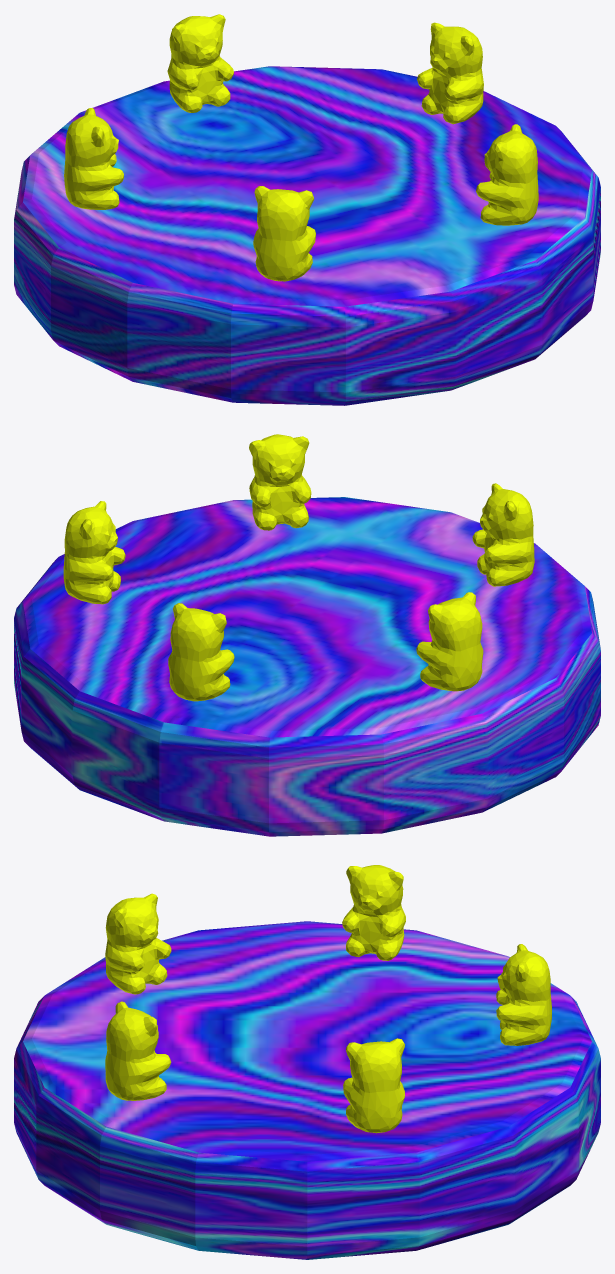
The model's file is jelly1.fbx.
The picture shows the model from 3 angles, top to bottom: view 1: azimuth 30°, elevation 25°; view 2: azimuth 150°, elevation 25°; view 3: azimuth 270°, elevation 25°; orthographic projection.
Parts seen in each view (by area): view 1: Cylinder, gummy_bear.150_Sphere.002, gummy_bear.150_Sphere.001, gummy_bear.150_Sphere.004, gummy_bear.150_Sphere.003, gummy_bear.150_Sphere.152; view 2: Cylinder, gummy_bear.150_Sphere.001, gummy_bear.150_Sphere.152, gummy_bear.150_Sphere.003, gummy_bear.150_Sphere.004, gummy_bear.150_Sphere.002; view 3: Cylinder, gummy_bear.150_Sphere.004, gummy_bear.150_Sphere.152, gummy_bear.150_Sphere.002, gummy_bear.150_Sphere.003, gummy_bear.150_Sphere.001.
Part boxes in pixels (x1,y1,x2,y2): Cylinder: (14,66,600,405); gummy_bear.150_Sphere.002: (417,22,483,124); gummy_bear.150_Sphere.001: (167,14,233,112); gummy_bear.150_Sphere.004: (253,186,315,281); gummy_bear.150_Sphere.003: (476,124,538,225); gummy_bear.150_Sphere.152: (64,108,123,209); Cylinder: (14,497,600,836); gummy_bear.150_Sphere.001: (168,603,234,701); gummy_bear.150_Sphere.152: (416,592,483,691); gummy_bear.150_Sphere.003: (249,434,311,530); gummy_bear.150_Sphere.004: (472,483,534,586); gummy_bear.150_Sphere.002: (63,501,125,604); Cylinder: (14,921,600,1259); gummy_bear.150_Sphere.004: (105,893,171,994); gummy_bear.150_Sphere.152: (342,865,405,960); gummy_bear.150_Sphere.002: (343,1038,404,1133); gummy_bear.150_Sphere.003: (105,1001,171,1100); gummy_bear.150_Sphere.001: (496,944,551,1045).
Bounding box in the file's own units: 200 × 70.71 × 200.
Materials: 2 (1 with a texture image).
